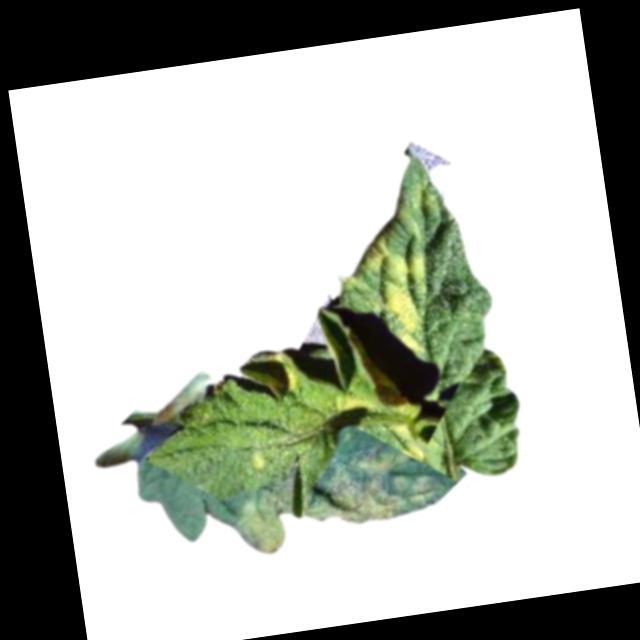Leaf_Mold: (228, 445, 441, 556), (358, 229, 444, 356), (336, 352, 425, 471), (235, 346, 302, 403), (243, 442, 270, 473)
